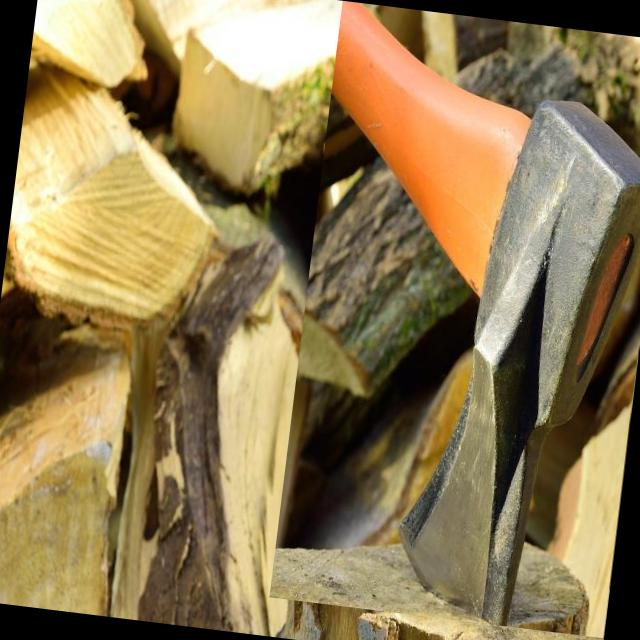Axe: (332, 0, 640, 625)
